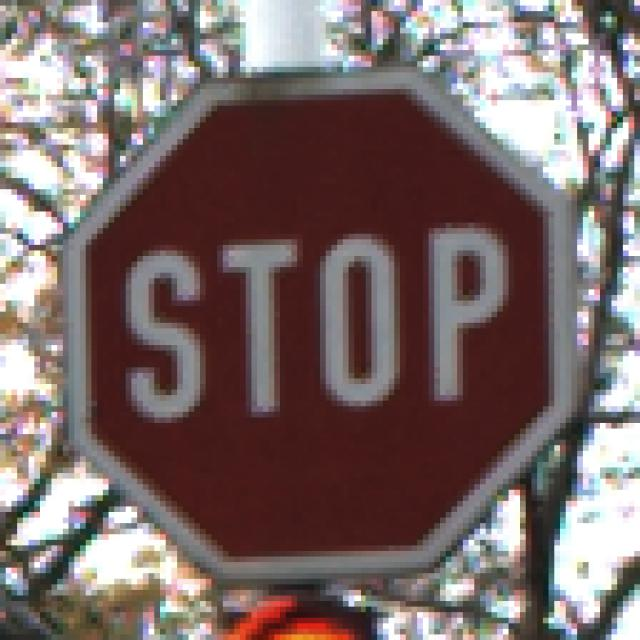STOP: (53, 57, 590, 585)
